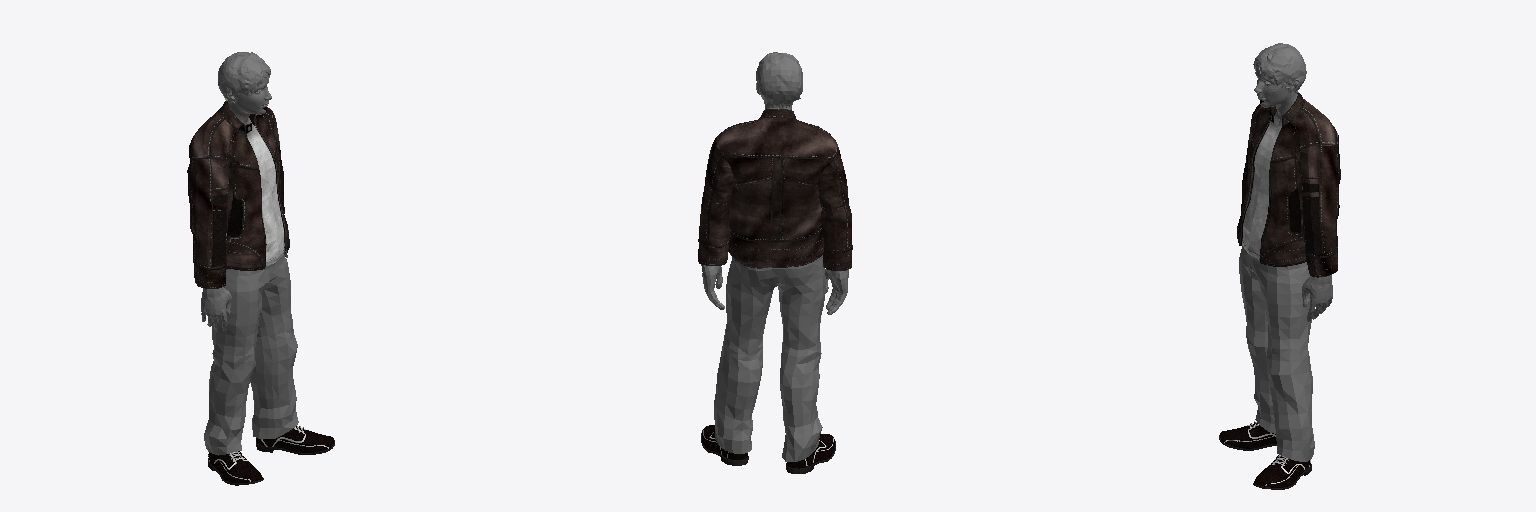
The picture shows the model from 3 angles: view 1: azimuth 30°, elevation 25°; view 2: azimuth 150°, elevation 25°; view 3: azimuth 270°, elevation 25°; orthographic projection.
Parts seen in each view (by area): view 1: Tops, Bottoms, Shoes, Body, Hair; view 2: Tops, Bottoms, Hair, Shoes, Body; view 3: Tops, Bottoms, Shoes, Body, Hair.
Boxes of the visible parts, <box> form: Tops: <box>187,101,289,288</box>; Bottoms: <box>204,255,298,455</box>; Shoes: <box>208,426,334,485</box>; Body: <box>201,73,271,331</box>; Hair: <box>218,52,270,103</box>; Tops: <box>698,109,852,270</box>; Bottoms: <box>714,255,825,461</box>; Hair: <box>756,52,802,107</box>; Shoes: <box>701,425,835,473</box>; Body: <box>701,83,848,314</box>; Tops: <box>1237,92,1340,277</box>; Bottoms: <box>1239,246,1314,461</box>; Shoes: <box>1219,421,1311,489</box>; Body: <box>1254,65,1332,321</box>; Hair: <box>1253,43,1306,94</box>.
Size of the model in its own units: 664 by 1799 by 489.
7 materials, 2 textured.